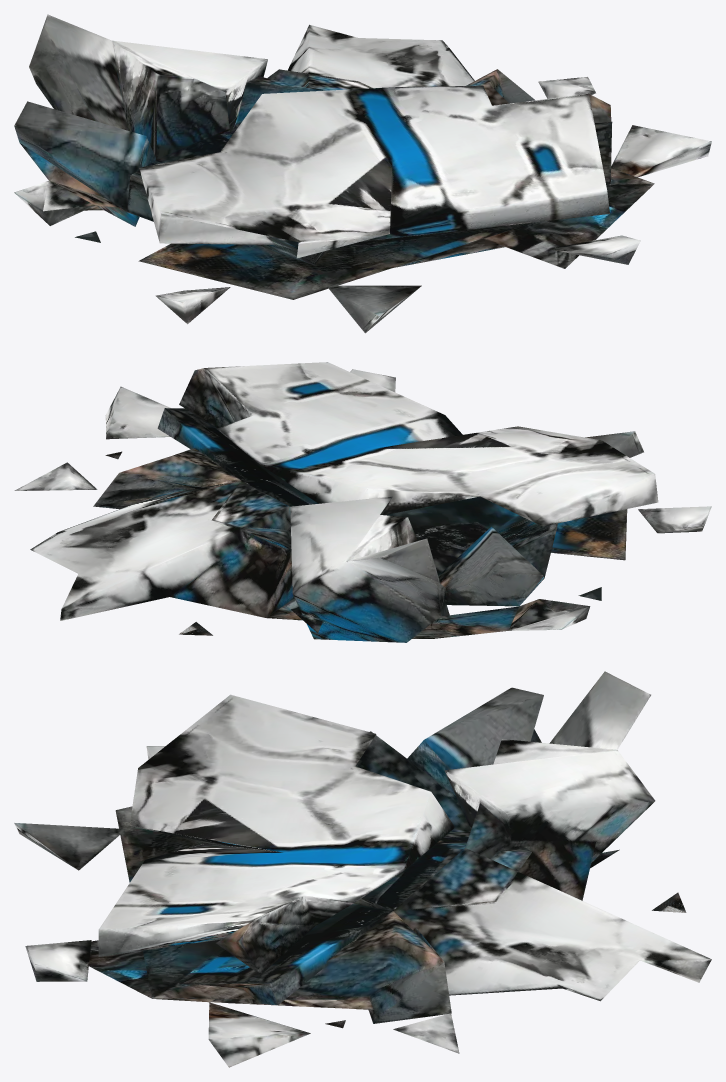
3 views of the same model, one above another, from view 1: azimuth 30°, elevation 25°; view 2: azimuth 150°, elevation 25°; view 3: azimuth 270°, elevation 25° (orthographic). The views are drawn at different scales.
Parts seen in each view (by area): view 1: mesh_node; view 2: mesh_node; view 3: mesh_node.
Part boxes in pixels (<box>): mesh_node: <box>14,14,711,333</box>; mesh_node: <box>14,362,711,642</box>; mesh_node: <box>14,671,711,1067</box>.
Size of the model in its own units: 1 by 0.2774 by 0.9668.
Materials: 1 (1 with a texture image).
